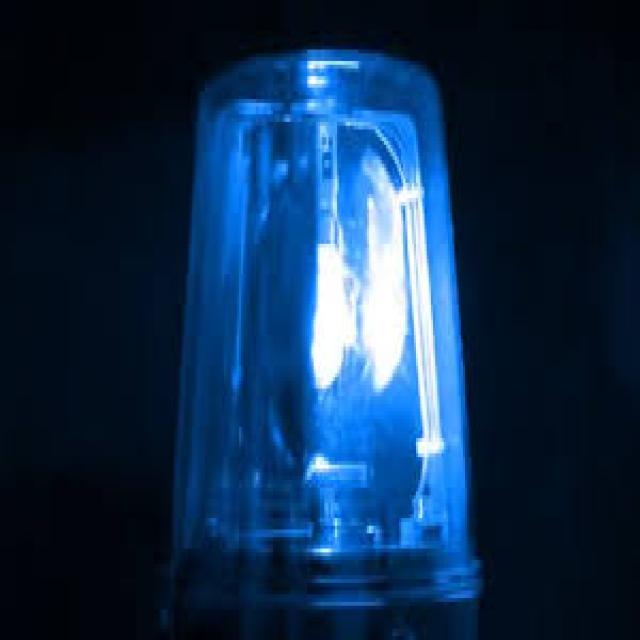emergency lights: (188, 0, 508, 604)
